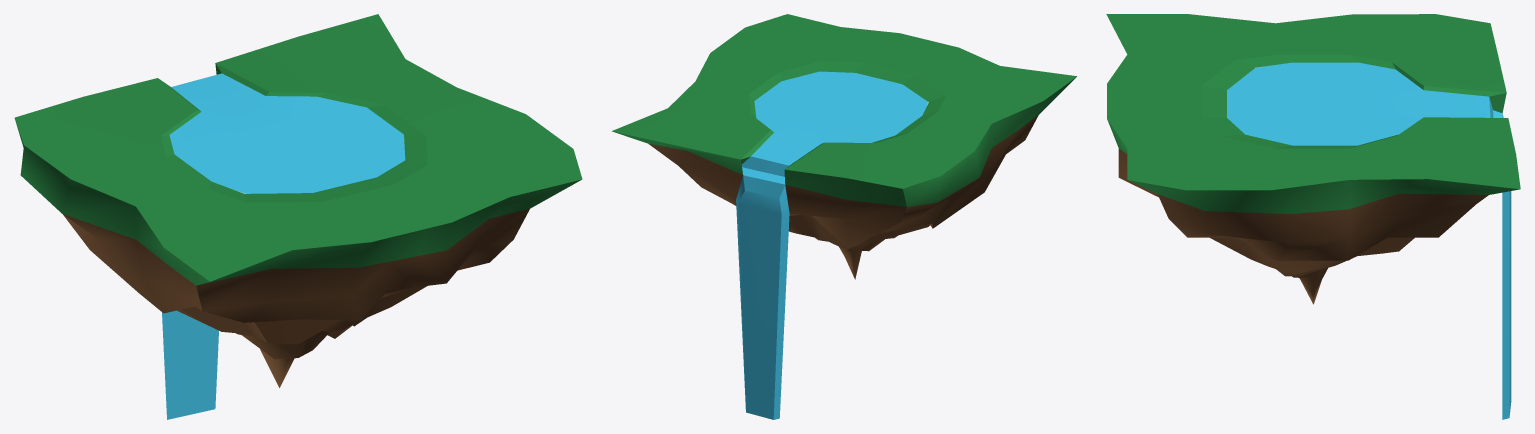
Rendered from IslandFBX.fbx.
3 renders of one model, left to right at view 1: azimuth 30°, elevation 25°; view 2: azimuth 150°, elevation 25°; view 3: azimuth 270°, elevation 25°, orthographic. The views are drawn at different scales.
Parts seen in each view (by area): view 1: Mesh; view 2: Mesh; view 3: Mesh.
Part boxes in pixels (x1,y1,x2,y2): Mesh: [14, 14, 582, 419]; Mesh: [612, 14, 1076, 419]; Mesh: [1106, 14, 1520, 419].
Bounding box in the file's own units: 10.74 × 8.57 × 10.48.
Materials: 1 (1 with a texture image).
